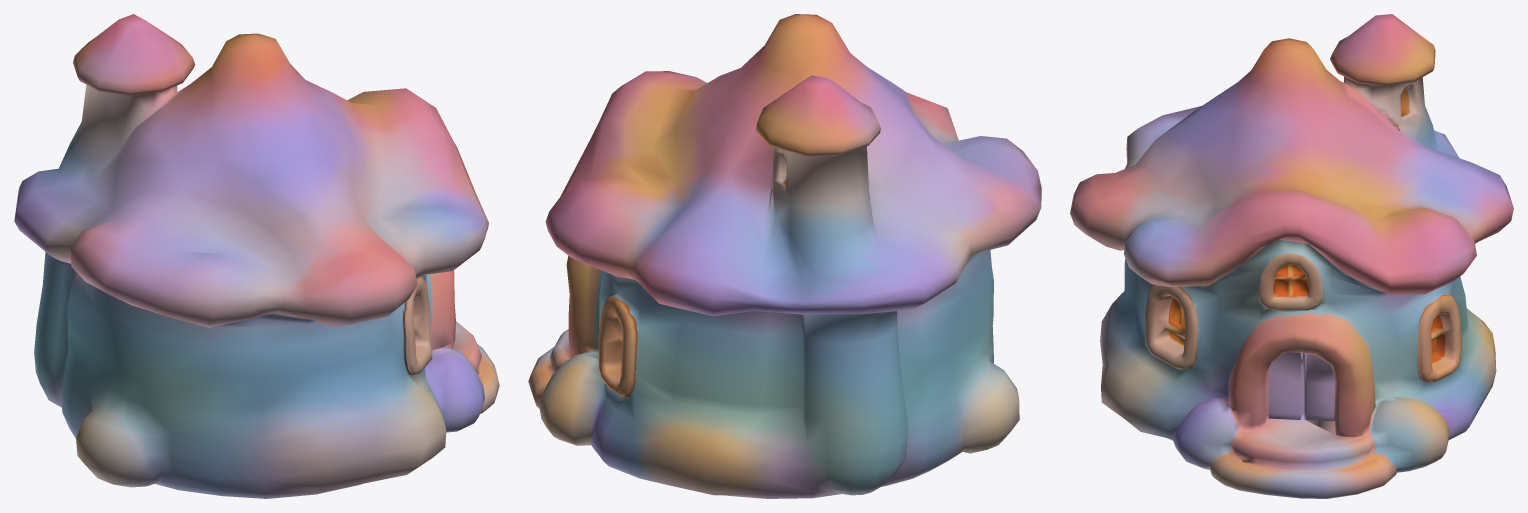
The model's file is 梦幻陶泥圆顶小塔屋.glb.
3 views of the same model, side by side, from view 1: azimuth 30°, elevation 25°; view 2: azimuth 150°, elevation 25°; view 3: azimuth 270°, elevation 25° (orthographic). The views are drawn at different scales.
Visible parts, largest first — view 1: tripo_node_aee4fa9b-6806-412a-8274-ac9ea4b15b49; view 2: tripo_node_aee4fa9b-6806-412a-8274-ac9ea4b15b49; view 3: tripo_node_aee4fa9b-6806-412a-8274-ac9ea4b15b49.
Part boxes in pixels (x1,y1,x2,y2): tripo_node_aee4fa9b-6806-412a-8274-ac9ea4b15b49: (14,14,499,498); tripo_node_aee4fa9b-6806-412a-8274-ac9ea4b15b49: (528,14,1041,498); tripo_node_aee4fa9b-6806-412a-8274-ac9ea4b15b49: (1070,14,1513,498).
Size of the model in its own units: 0.9961 by 0.8748 by 0.9863.
Materials: 1 (1 with a texture image).
